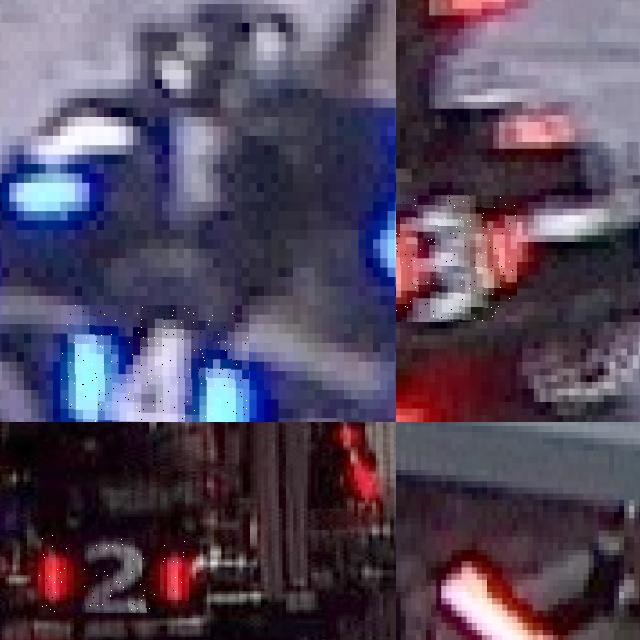B4: (60, 305, 249, 422)
R2: (38, 535, 189, 613)
R3: (396, 195, 516, 321)
